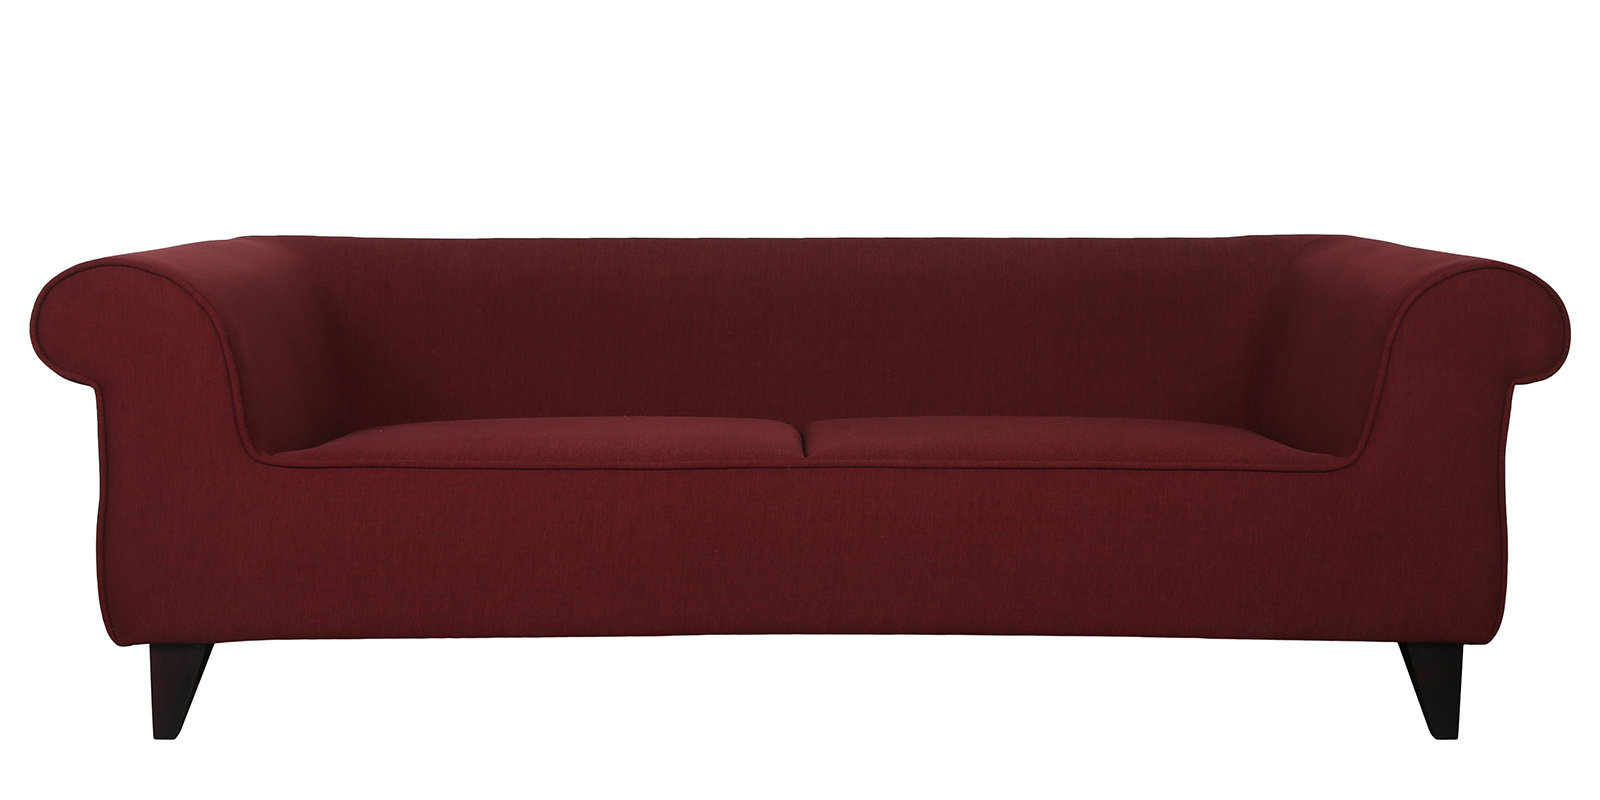Cielo Three Seater Sofa in Garnet Red Colour by CasaCraft: (9, 170, 1576, 770)
